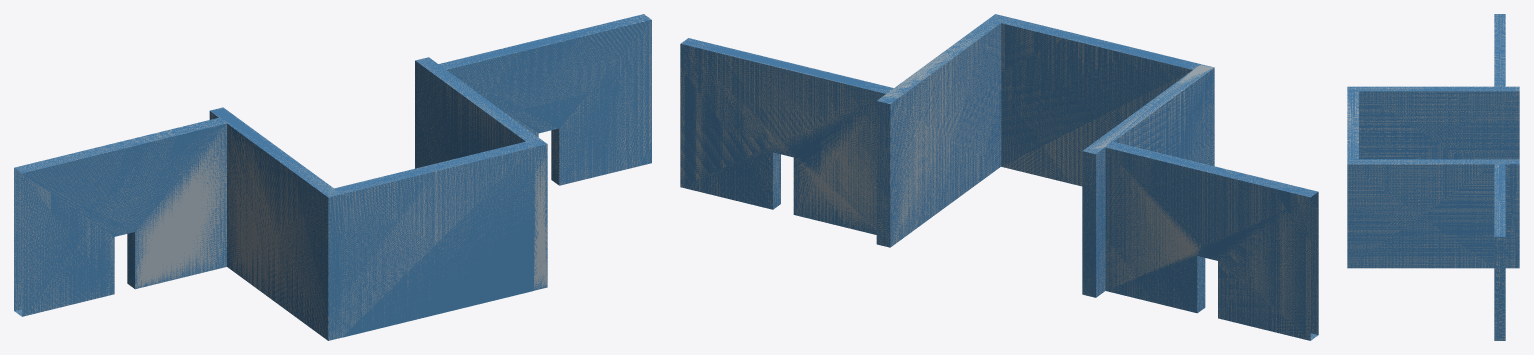
Rendered from Wall Frame.fbx.
3 views of the same model, side by side, from view 1: azimuth 30°, elevation 25°; view 2: azimuth 150°, elevation 25°; view 3: azimuth 270°, elevation 25° (orthographic). The views are drawn at different scales.
Visible parts, largest first — view 1: Model; view 2: Model; view 3: Model.
Boxes of the visible parts, x1,y1,x2,y2 form: Model: (14, 14, 651, 340); Model: (680, 14, 1318, 340); Model: (1347, 14, 1519, 340).
Bounding box in the file's own units: 1103 × 240 × 360.
